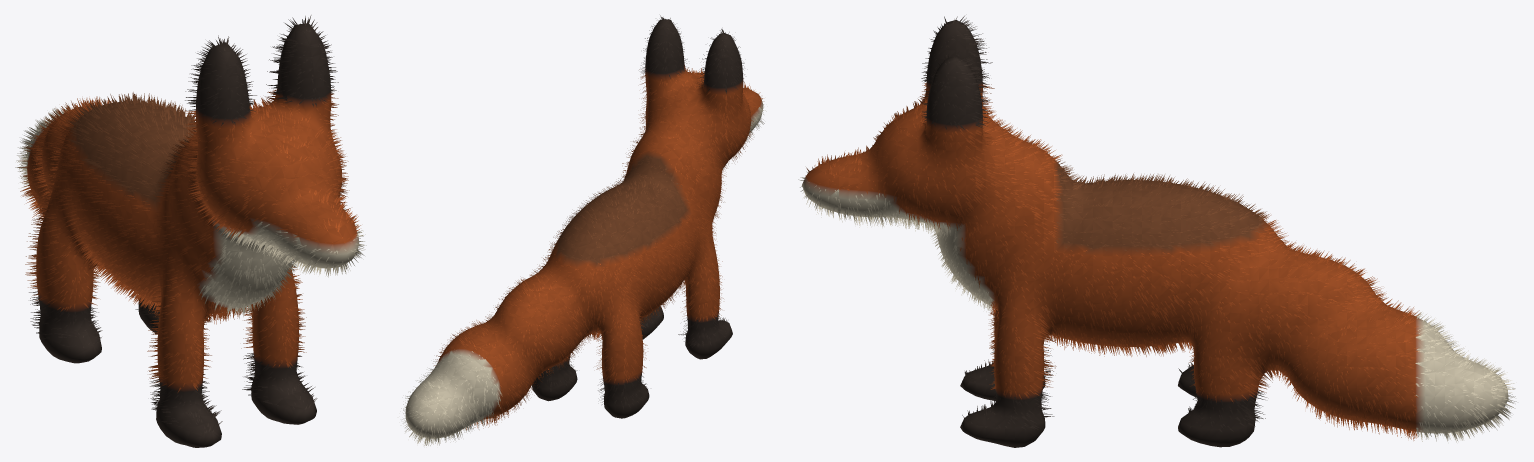
The model's file is fox.glb.
3 renders of one model, left to right at view 1: azimuth 30°, elevation 25°; view 2: azimuth 150°, elevation 25°; view 3: azimuth 270°, elevation 25°, orthographic. The views are drawn at different scales.
Bounding box in the file's own units: 0.9306 × 1.82 × 3.02.
